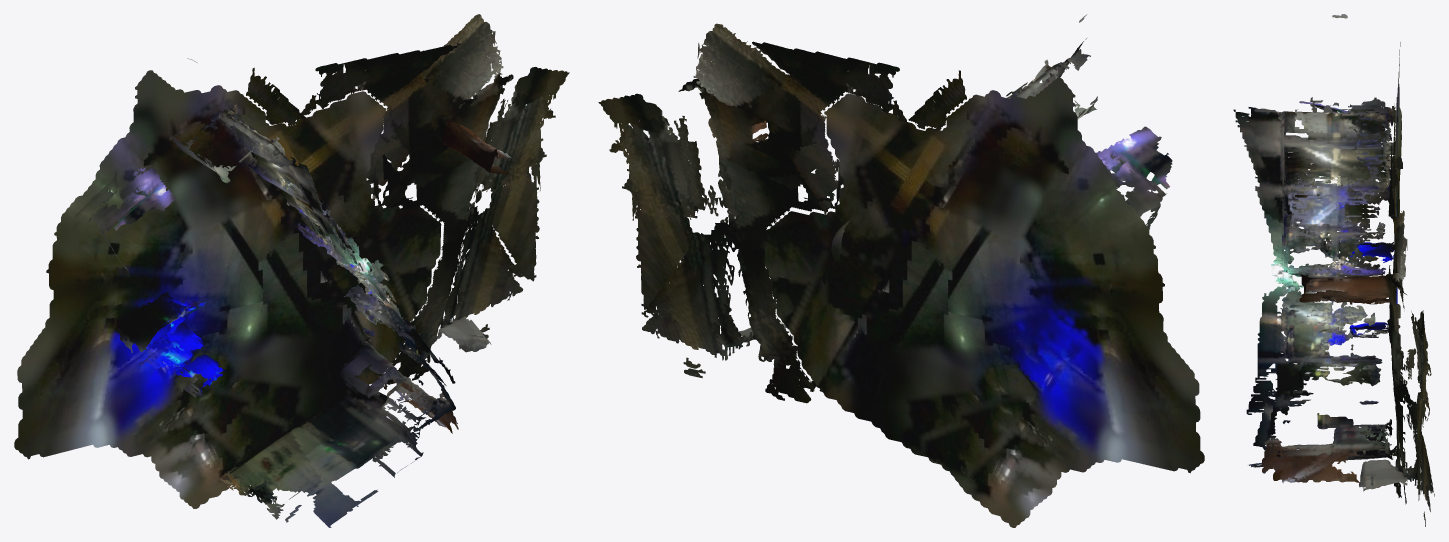
Rendered from bridge_out1f.glb.
3 views of the same model, side by side, from view 1: azimuth 30°, elevation 25°; view 2: azimuth 150°, elevation 25°; view 3: azimuth 270°, elevation 25° (orthographic). The views are drawn at different scales.
Size of the model in its own units: 13.67 by 11.01 by 4.57.
Materials: 2 (1 with a texture image).
